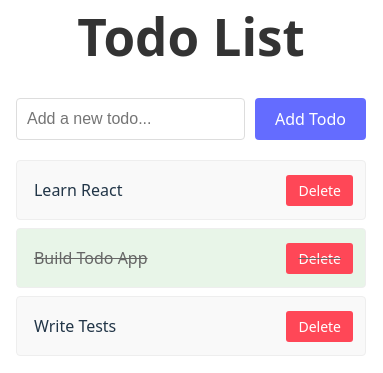
TodoList Component › deletes a todo when delete button is clicked
The image size is (383, 373).
Expected: the number of list items is 3, x1=16 y1=160 x2=366 y2=220; x1=16 y1=228 x2=366 y2=288; x1=16 y1=296 x2=366 y2=356
// Click delete
Click the button "Delete" in the row of "Learn React" at (320,190), box x1=286 y1=175 x2=353 y2=206
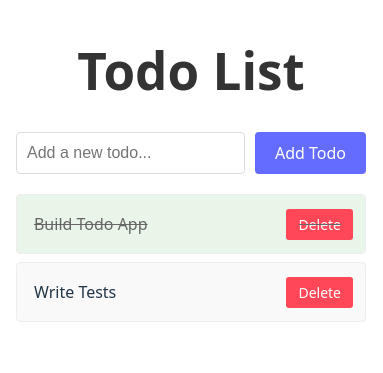
Expected: the number of list items is 2, x1=16 y1=194 x2=366 y2=254; x1=16 y1=262 x2=366 y2=322
Expected: the text "Learn React" is gone
